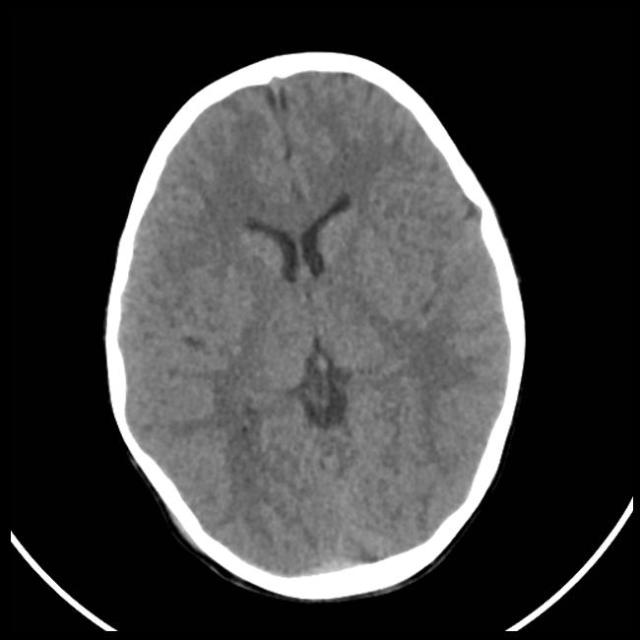lesion: (104, 58, 526, 589)
